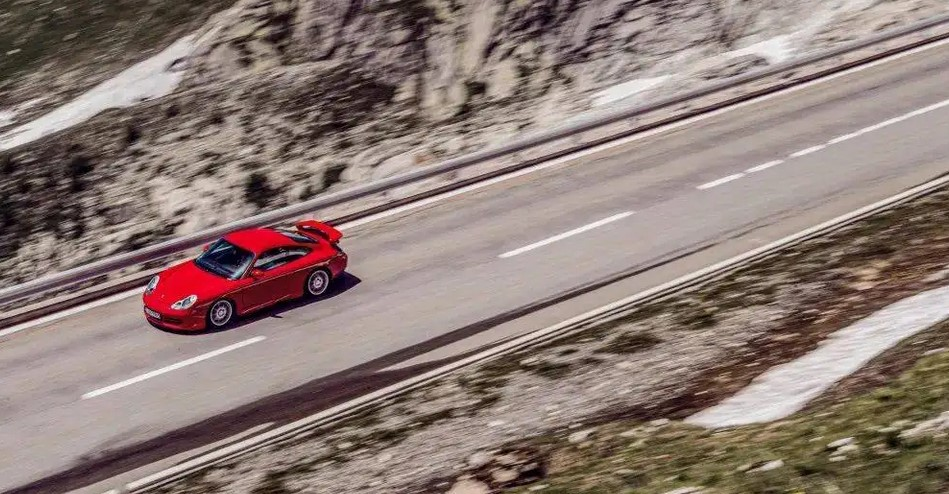car: (142, 218, 349, 336)
